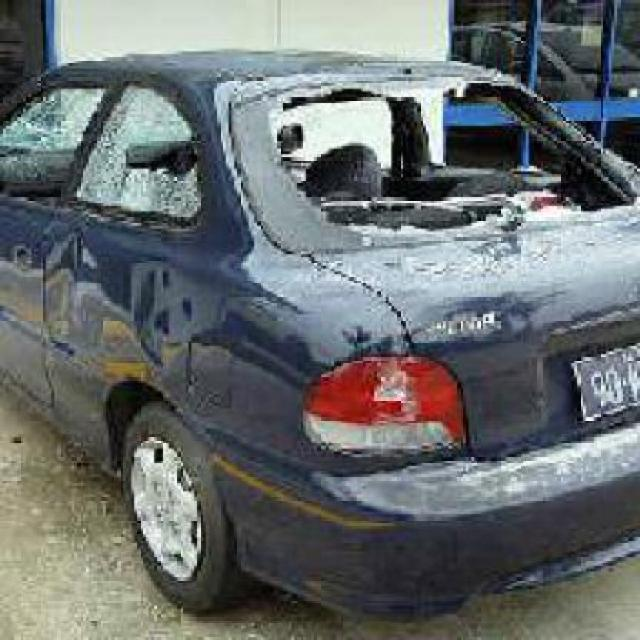damaged-rear-window: (218, 56, 624, 250)
damaged-window: (86, 70, 205, 227)
